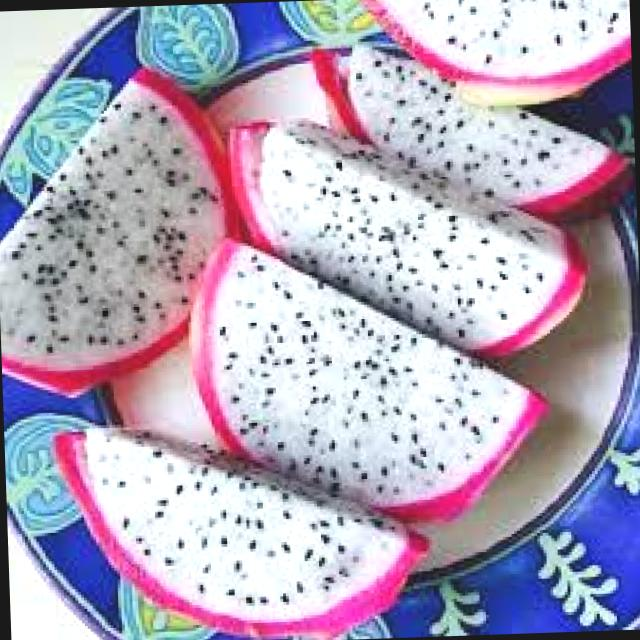thanh long: (192, 240, 544, 517), (232, 120, 581, 351), (55, 427, 423, 632), (0, 71, 233, 389), (338, 47, 621, 212), (363, 0, 628, 102)
